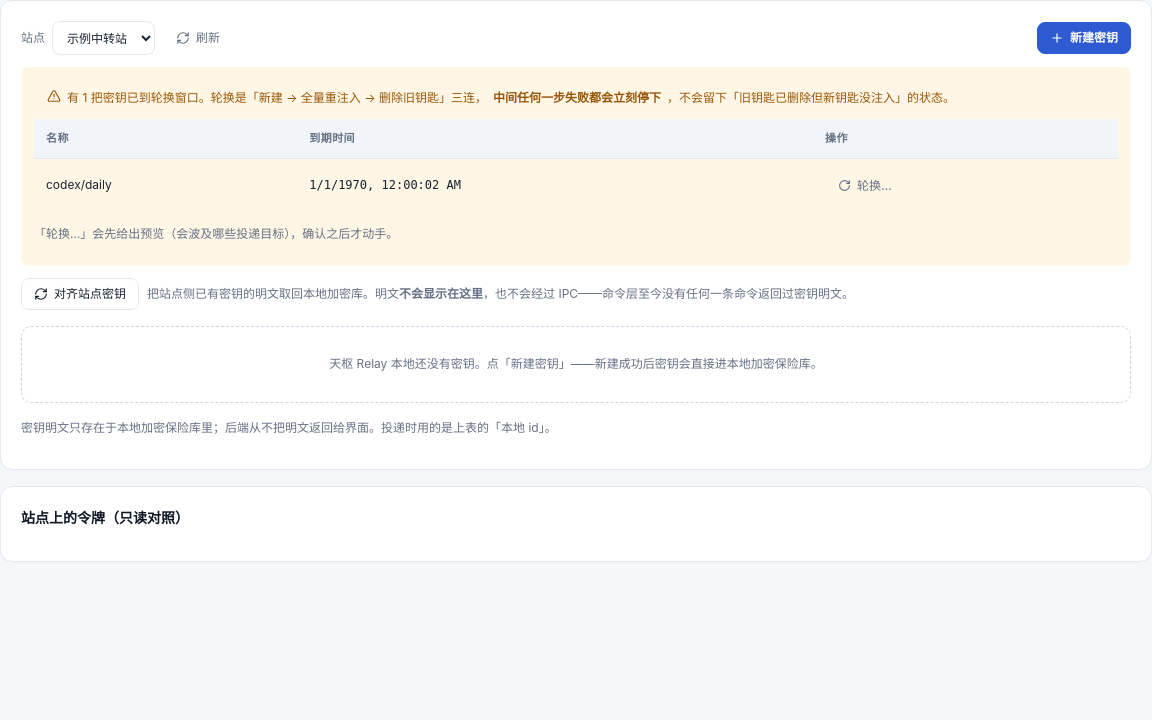
Test: M22-S1 轮换分组按需在线校验 › 按 id 命中且名字一致 ⇒ 报「站点上仍有这个分组」
Click the button "轮换…".
click(865, 186)  # box [825,170,905,202]
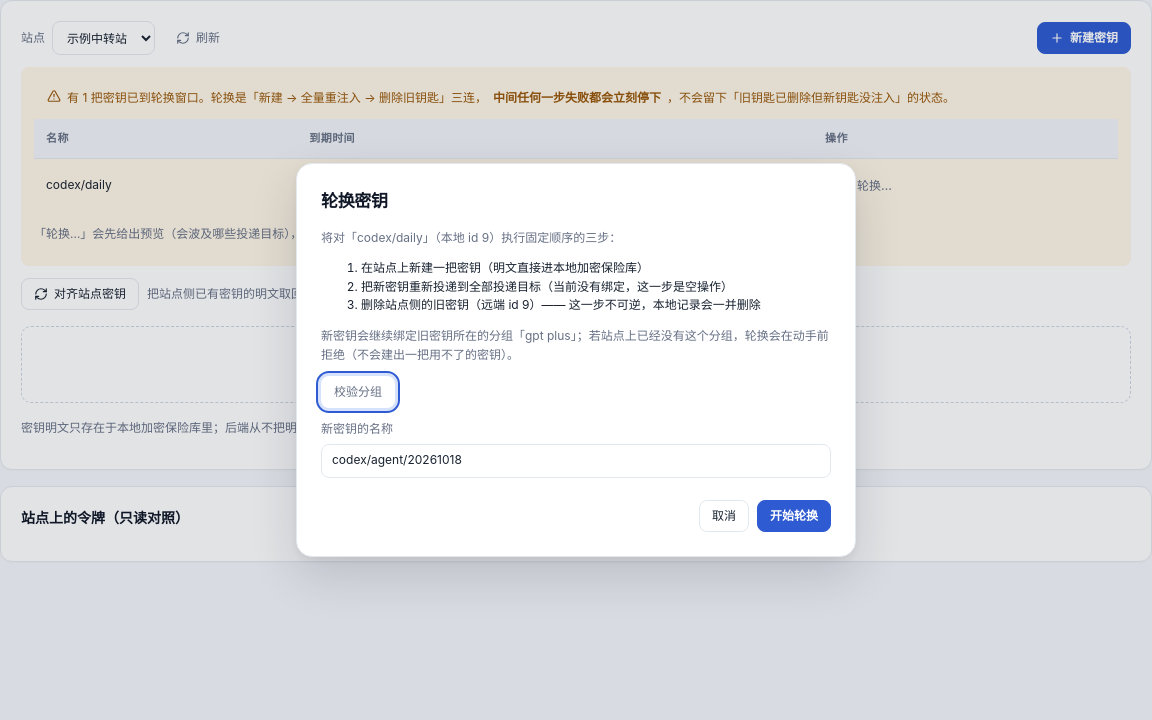
Click the button "校验分组".
click(358, 392)  # box [321,376,395,408]
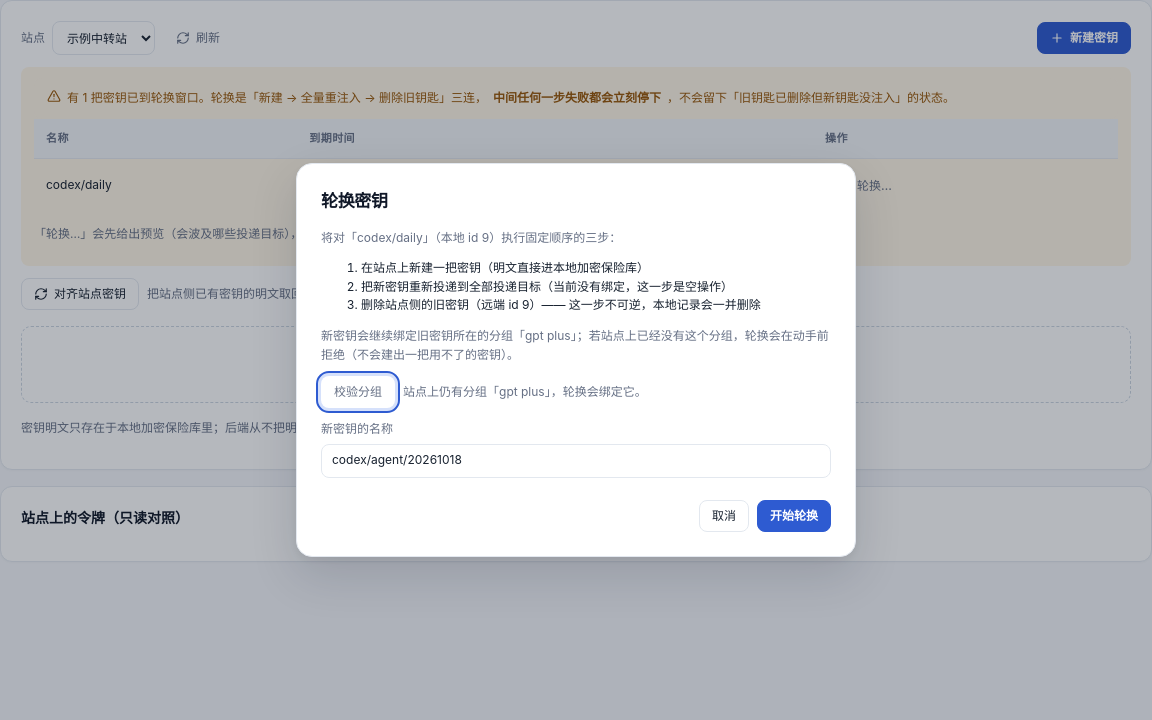
Result: the text "站点上仍有分组「gpt plus」，轮换会绑定它。" is shown at [403,383,647,402]
